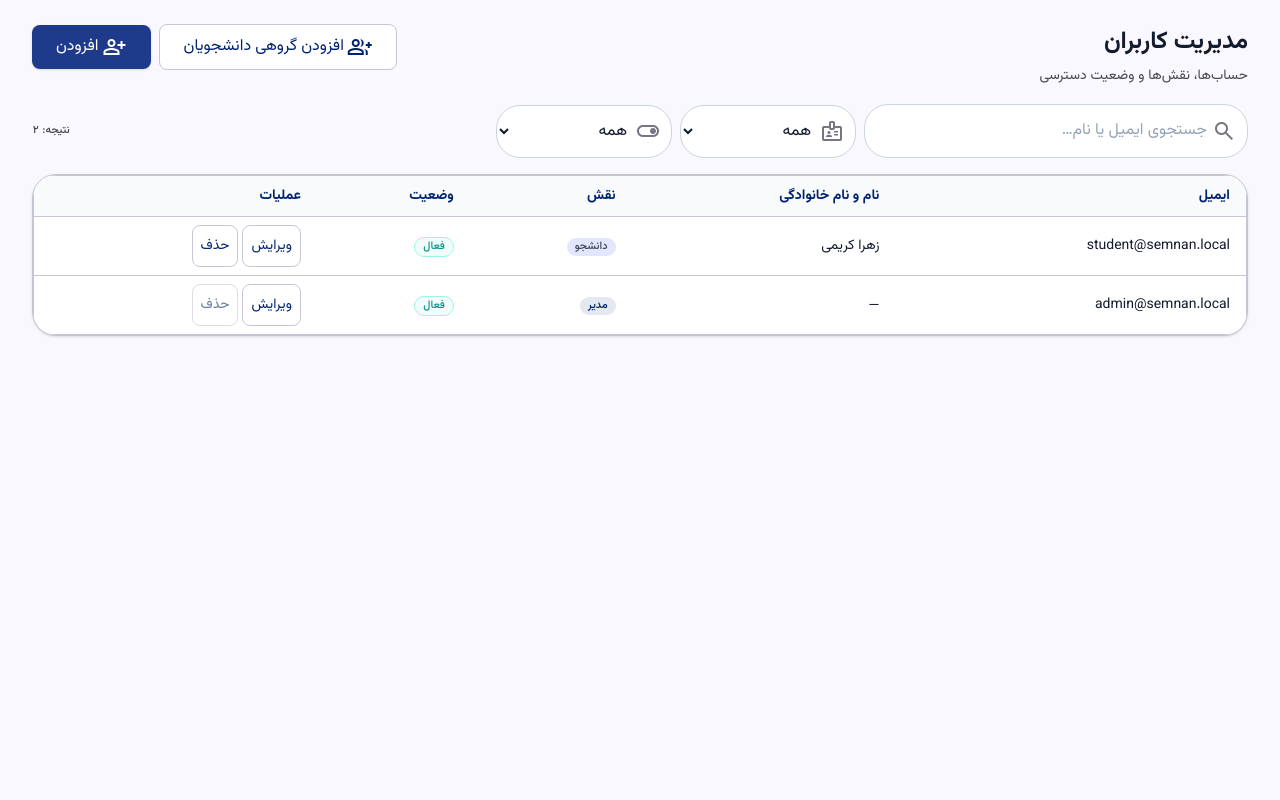
Scenario: admin users page › deactivates a user only after confirmation
This screenshot has width=1280, height=800.
Later steps or results of the test are not shown.
Expected: the text "student@semnan.local" is shown, [896, 216, 1246, 276]
What coordinates should you click on to do the following:
click the button "حذف" in the row of "student@semnan.local"
I would click on:
 (215, 246)
Its box is [192, 225, 238, 267].
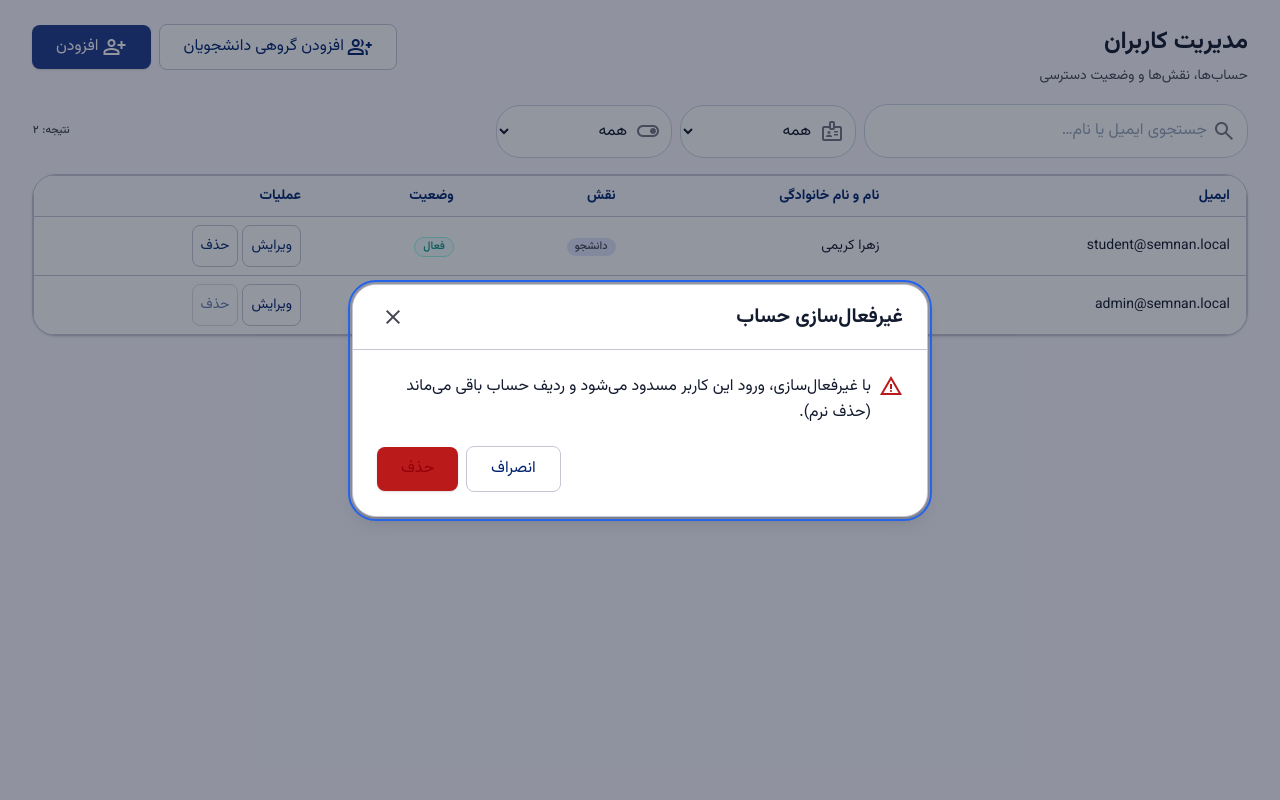
Now the text "با غیرفعال‌سازی، ورود این کاربر مسدود می‌شود و ردیف حساب باقی می‌ماند (حذف نرم)." is shown, box [377, 374, 871, 426]
